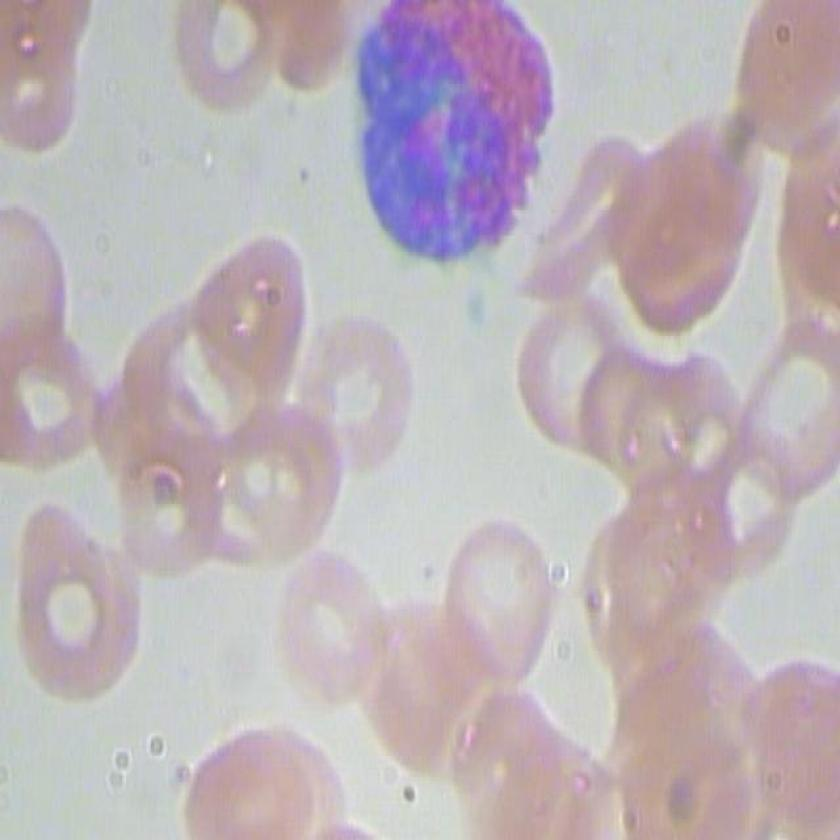eosinophil: (354, 1, 555, 263)
